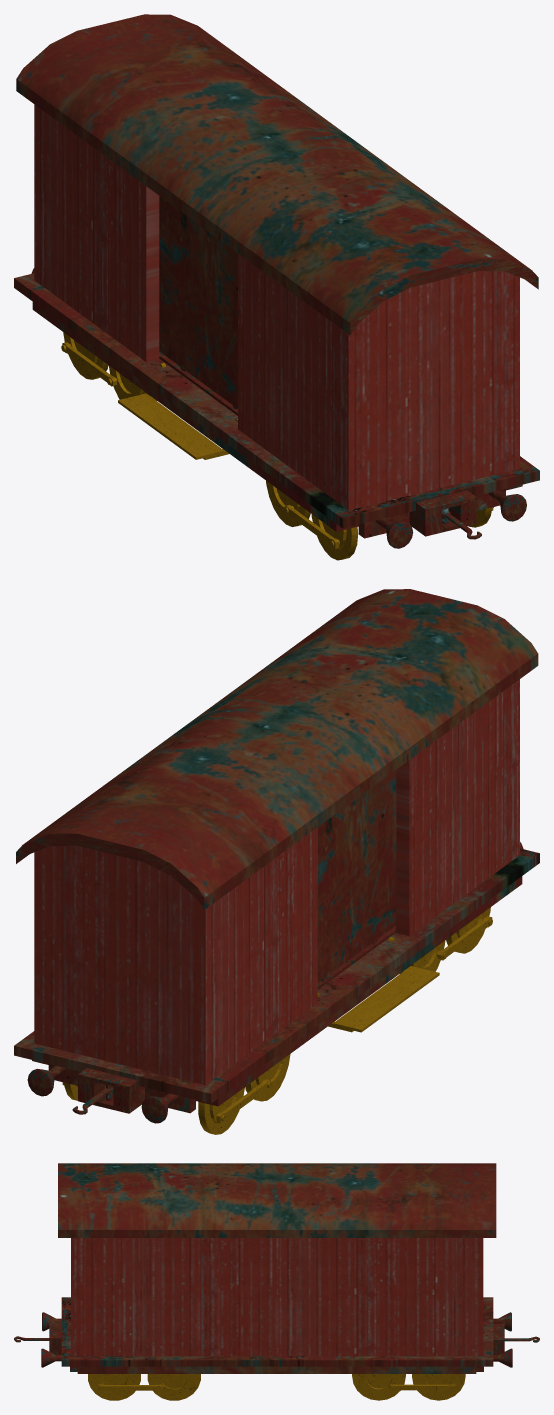
File: TremCarga.fbx
3 views of the same model, one above another, from view 1: azimuth 30°, elevation 25°; view 2: azimuth 150°, elevation 25°; view 3: azimuth 270°, elevation 25° (orthographic). The views are drawn at different scales.
Parts seen in each view (by area): view 1: VagaoCarga; view 2: VagaoCarga; view 3: VagaoCarga.
Part boxes in pixels (x1,y1,x2,y2): VagaoCarga: (14,14,539,560); VagaoCarga: (14,589,539,1134); VagaoCarga: (14,1163,539,1400).
Bounding box in the file's own units: 7.8 × 10.32 × 24.57.
4 materials, 3 textured.
